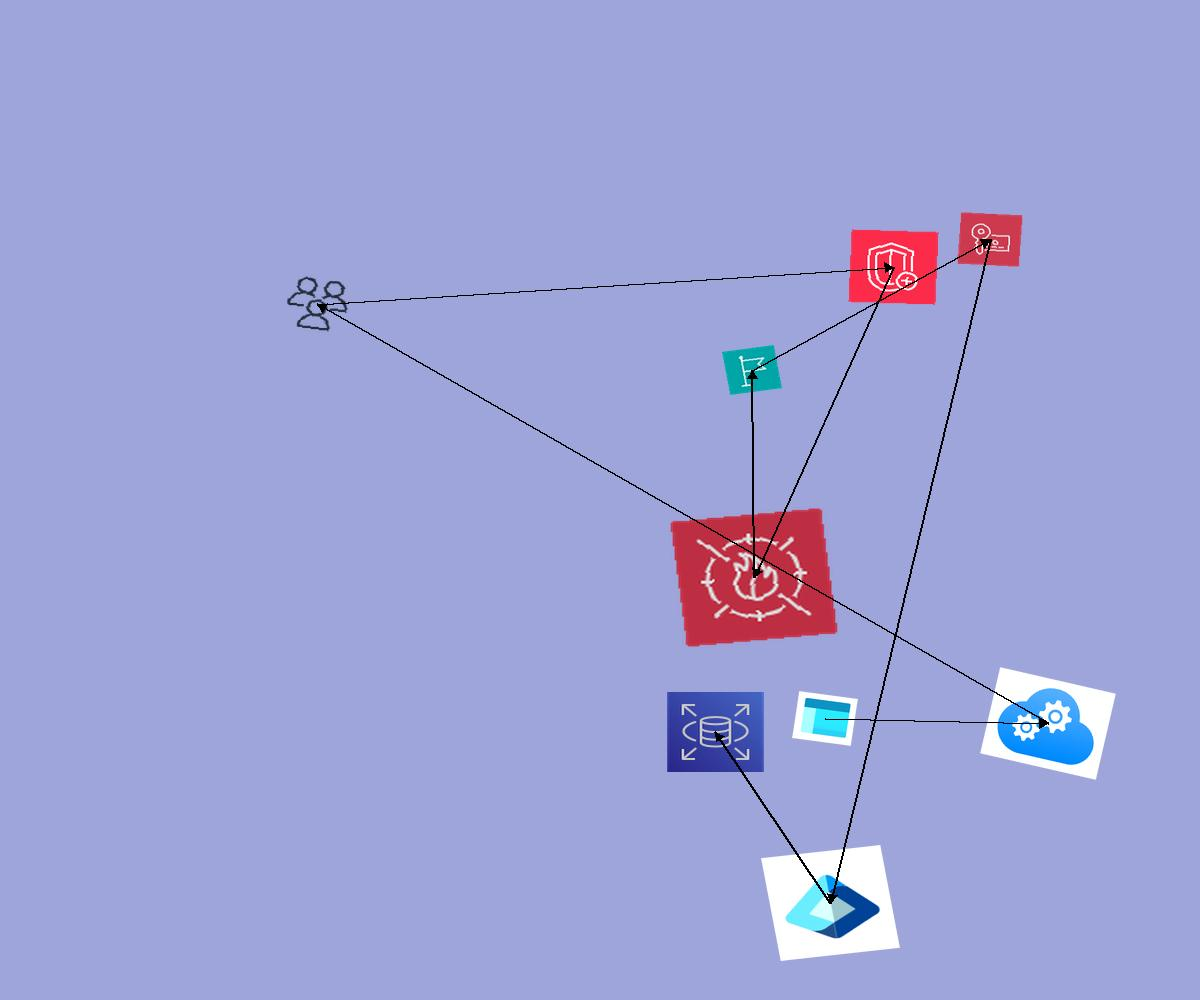AWS-Key-Management-Service: (957, 212, 1023, 267)
AWS-RDS: (666, 691, 765, 773)
AWS-Region: (722, 345, 782, 395)
AWS-Res_Users: (279, 272, 356, 336)
AWS-Shield: (848, 229, 939, 305)
AWS-WAF: (669, 507, 839, 648)
Azure_cloud_services: (980, 667, 1116, 780)
Azure_management-portal: (792, 691, 858, 746)
Azure_microsoft_entra: (761, 845, 900, 961)
